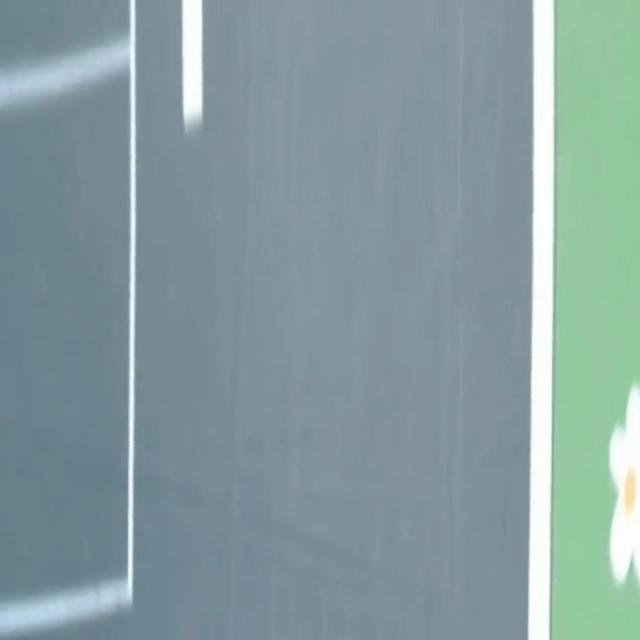center: (181, 0, 202, 132)
right: (527, 0, 554, 639)
